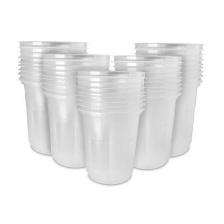glass: (128, 38, 207, 162), (107, 50, 187, 171), (16, 35, 92, 160), (74, 67, 150, 187), (39, 49, 113, 172)
